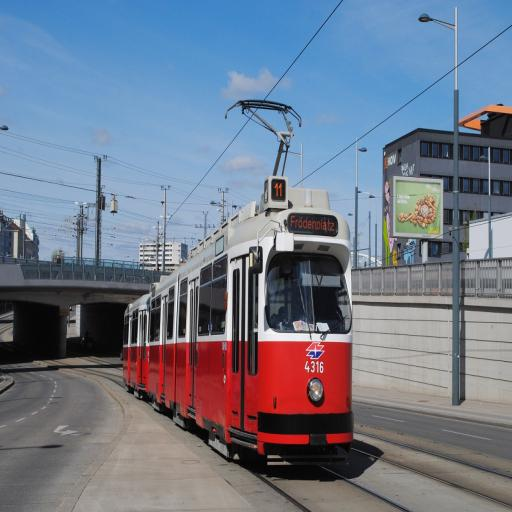E2-Tram: (124, 175, 355, 451)
